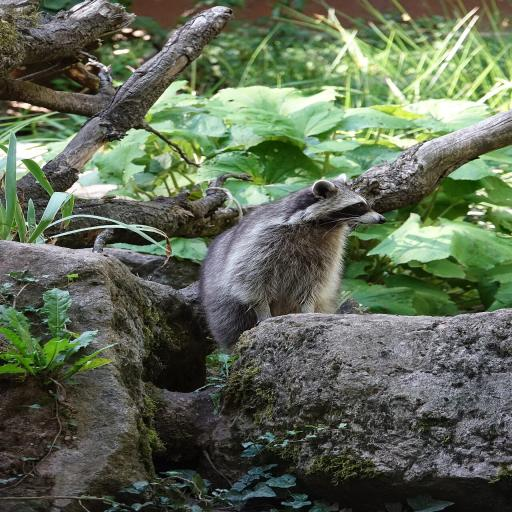raccoon: (200, 175, 385, 347)
